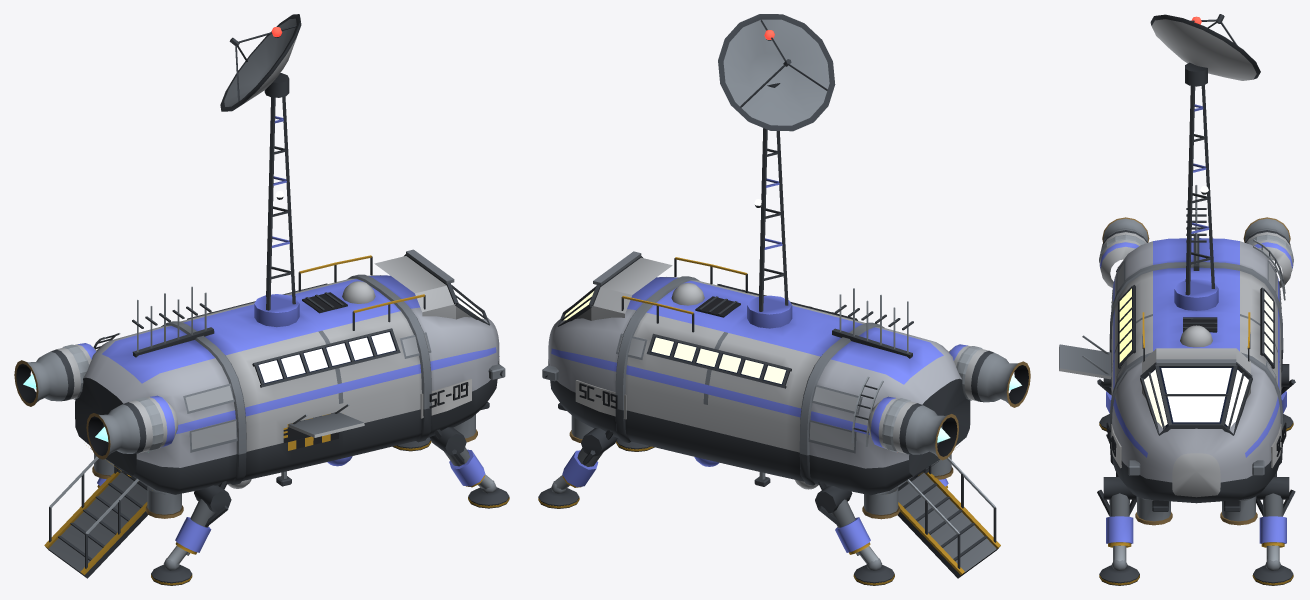
File: ship_science.glb
The picture shows the model from 3 angles, left to right: view 1: azimuth 30°, elevation 25°; view 2: azimuth 150°, elevation 25°; view 3: azimuth 270°, elevation 25°; orthographic projection.
Visible parts, largest first — view 1: Hull, Ramp, Leg_RR, Lights, Leg_FR, Door_Lab; view 2: Hull, Ramp, Leg_RL, Leg_FL, Lights; view 3: Hull, Lights, Leg_FR, Leg_FL, Door_Lab, Leg_RL, Leg_RR.
Boxes of the visible parts, <box> form: Hull: <box>14,14,505,518</box>; Ramp: <box>44,456,147,578</box>; Leg_RR: <box>151,481,231,585</box>; Lights: <box>258,27,483,410</box>; Leg_FR: <box>429,427,509,508</box>; Door_Lab: <box>288,404,364,437</box>; Hull: <box>542,14,1030,519</box>; Ramp: <box>897,457,1000,578</box>; Leg_RL: <box>815,481,894,585</box>; Leg_FL: <box>538,428,617,508</box>; Lights: <box>563,30,786,411</box>; Hull: <box>1099,14,1293,525</box>; Lights: <box>1119,16,1273,427</box>; Leg_FR: <box>1097,472,1139,585</box>; Leg_FL: <box>1252,472,1295,585</box>; Door_Lab: <box>1059,335,1111,379</box>; Leg_RL: <box>1281,364,1295,431</box>; Leg_RR: <box>1097,373,1111,431</box>.
Bounding box in the file's own units: 12.08 × 13.23 × 5.86.
